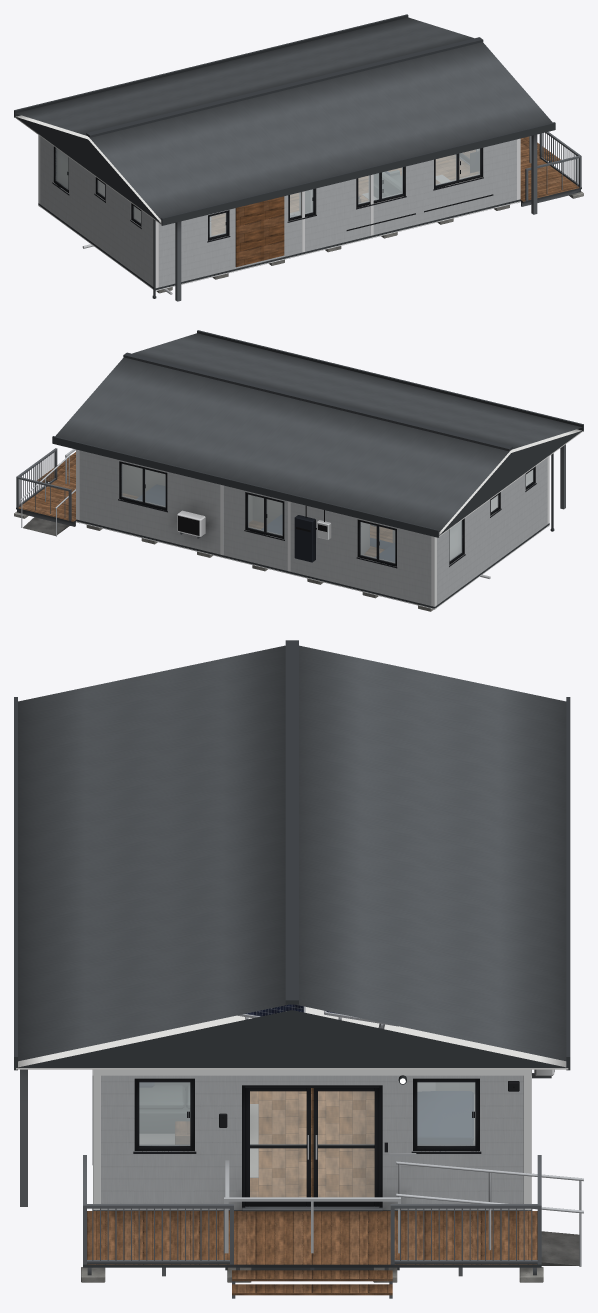
File: Studio40_Production.glb
The picture shows the model from 3 angles, top to bottom: view 1: azimuth 30°, elevation 25°; view 2: azimuth 150°, elevation 25°; view 3: azimuth 270°, elevation 25°; orthographic projection. The views are drawn at different scales.
Visible parts, largest first — view 1: RoofSlopingUpgrade, ExteriorPanelsStandard, WindowsStandard, WindowsLargeUpgrade, TerraceDeck, ExteriorPanelsPremium, BaseFrame, FloorSPCUpgrade, TopFrame, FurnitureStaging, FoundationBlocks; view 2: RoofSlopingUpgrade, ExteriorPanelsStandard, WindowsStandard, WindowsLargeUpgrade, TerraceDeck, BaseFrame, TopFrame, SolarPrep, MasterBedroomWalls, BedroomWalls, AccessibilityVillage, FurnitureStaging (+3 smaller); view 3: RoofSlopingUpgrade, TerraceDeck, ExteriorPanelsStandard, EntryDoor, FloorSPCUpgrade, WindowsStandard, WindowsLargeUpgrade, FurnitureStaging, AccessibilityVillage, RoofMain, TopFrame, AccessibilityRetirement (+1 smaller).
Boxes of the visible parts, x1,y1,x2,y2 form: RoofSlopingUpgrade: [14, 14, 555, 301]; ExteriorPanelsStandard: [40, 136, 516, 287]; WindowsStandard: [52, 145, 492, 242]; WindowsLargeUpgrade: [53, 147, 493, 237]; TerraceDeck: [463, 132, 583, 206]; ExteriorPanelsPremium: [235, 196, 284, 267]; BaseFrame: [38, 199, 520, 291]; FloorSPCUpgrade: [211, 155, 479, 235]; TopFrame: [38, 135, 520, 287]; FurnitureStaging: [374, 170, 439, 198]; FoundationBlocks: [157, 204, 509, 293]; RoofSlopingUpgrade: [52, 330, 583, 537]; ExteriorPanelsStandard: [79, 450, 547, 605]; WindowsStandard: [118, 461, 536, 568]; WindowsLargeUpgrade: [119, 461, 534, 566]; TerraceDeck: [14, 448, 76, 526]; BaseFrame: [76, 519, 549, 609]; TopFrame: [76, 449, 549, 606]; SolarPrep: [294, 505, 331, 562]; MasterBedroomWalls: [123, 464, 252, 521]; BedroomWalls: [253, 496, 394, 554]; AccessibilityVillage: [20, 449, 75, 535]; FurnitureStaging: [137, 484, 394, 561]; RoofSlopingUpgrade: [14, 640, 570, 1206]; TerraceDeck: [81, 1155, 543, 1298]; ExteriorPanelsStandard: [93, 1075, 530, 1210]; EntryDoor: [242, 1085, 382, 1211]; FloorSPCUpgrade: [250, 1088, 374, 1197]; WindowsStandard: [92, 1076, 481, 1153]; WindowsLargeUpgrade: [92, 1078, 479, 1164]; FurnitureStaging: [139, 1082, 474, 1144]; AccessibilityVillage: [224, 1160, 583, 1270]; RoofMain: [92, 1069, 531, 1075]; TopFrame: [93, 1075, 531, 1209]; AccessibilityRetirement: [389, 1153, 583, 1210].
Bounding box in the file's own units: 14.75 × 3.95 × 8.5.
48 materials, 22 textured.
